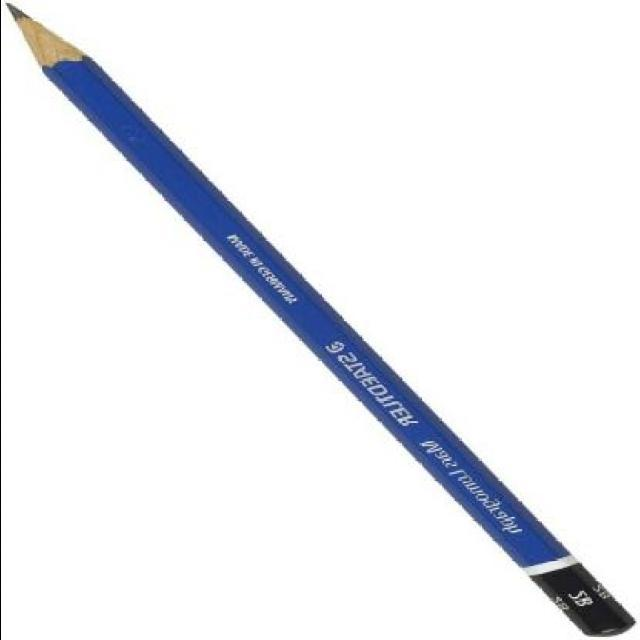pencil: (0, 1, 132, 124)
